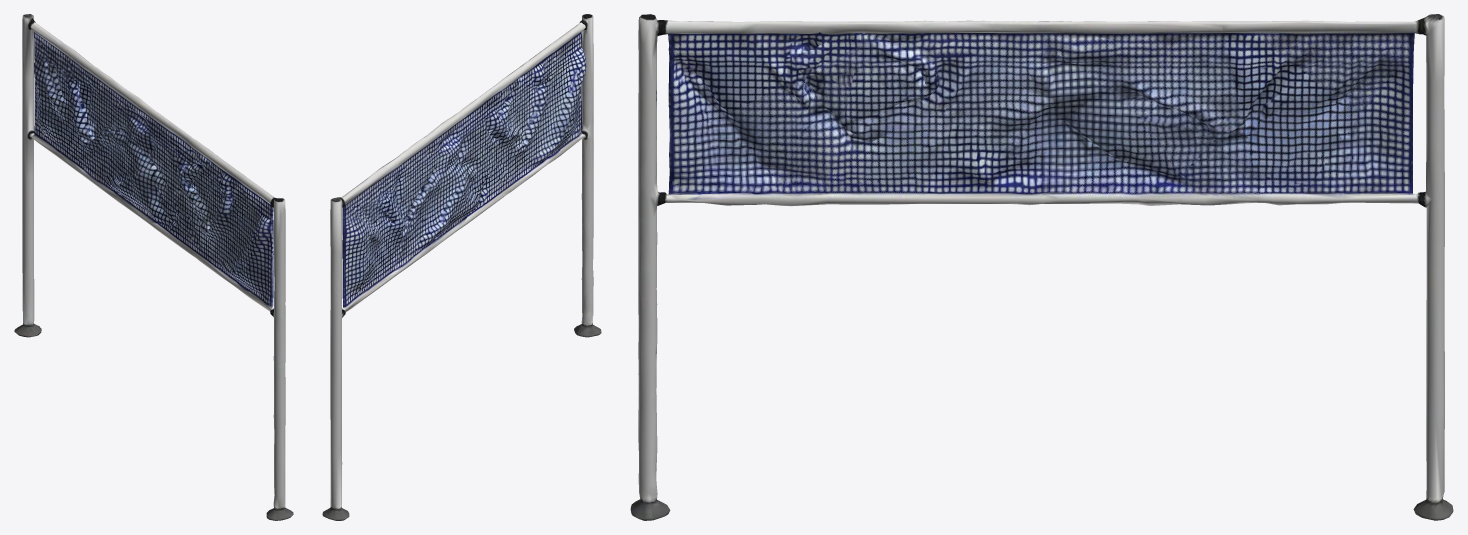
File: badminton-net.glb
The picture shows the model from 3 angles, left to right: view 1: azimuth 30°, elevation 25°; view 2: azimuth 150°, elevation 25°; view 3: azimuth 270°, elevation 25°; orthographic projection. The views are drawn at different scales.
Parts seen in each view (by area): view 1: node_00c747d8-5ea0-47e3-804b-20a06d8f289b; view 2: node_00c747d8-5ea0-47e3-804b-20a06d8f289b; view 3: node_00c747d8-5ea0-47e3-804b-20a06d8f289b.
Boxes of the visible parts, bbox=[...] form: node_00c747d8-5ea0-47e3-804b-20a06d8f289b: bbox=[14, 14, 293, 520]; node_00c747d8-5ea0-47e3-804b-20a06d8f289b: bbox=[322, 14, 601, 520]; node_00c747d8-5ea0-47e3-804b-20a06d8f289b: bbox=[630, 14, 1453, 520].
Size of the model in its own units: 0.0549 by 0.6638 by 0.9994.
Materials: 1 (1 with a texture image).
